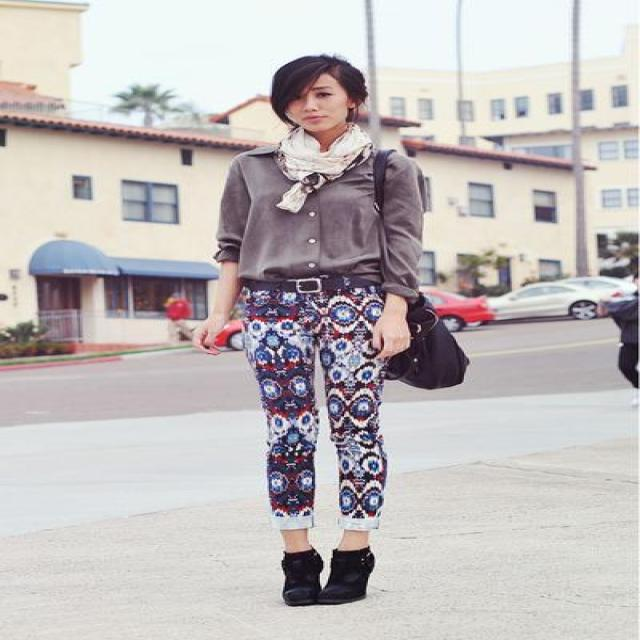bag: (378, 294, 478, 388)
jacket: (211, 142, 445, 319)
pants: (232, 277, 413, 530)
shoe: (282, 546, 372, 606)
